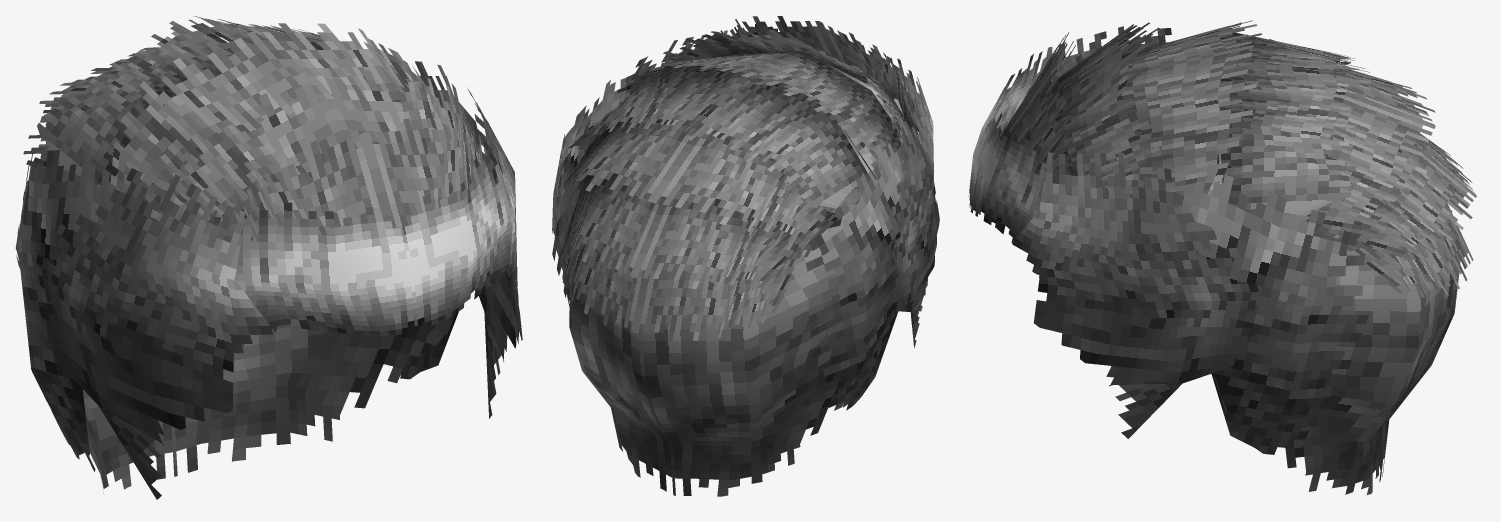
File: f_head016.glb
3 views of the same model, side by side, from view 1: azimuth 30°, elevation 25°; view 2: azimuth 150°, elevation 25°; view 3: azimuth 270°, elevation 25° (orthographic). The views are drawn at different scales.
Size of the model in its own units: 19.23 by 22.48 by 23.38.
Materials: 1 (1 with a texture image).
